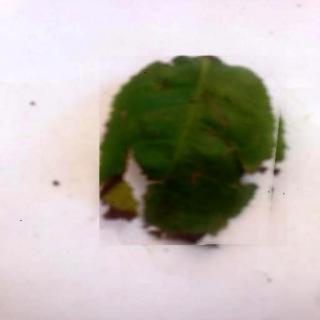Brown Blight: (101, 58, 289, 249)
